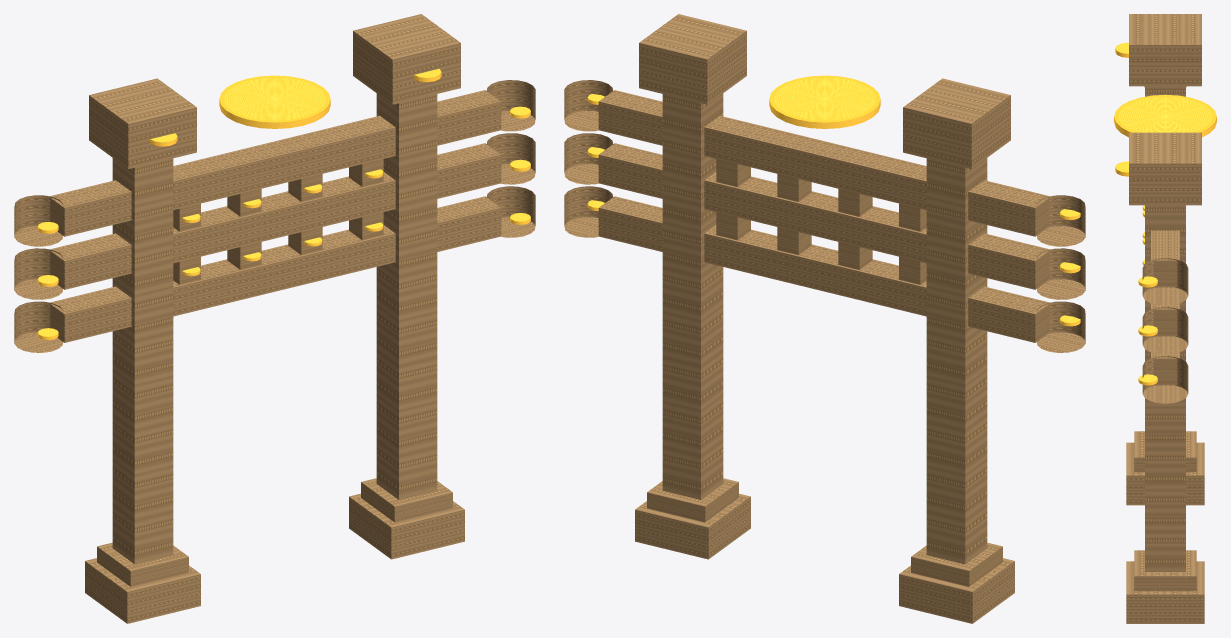
The model's file is temple_torana.glb.
3 views of the same model, side by side, from view 1: azimuth 30°, elevation 25°; view 2: azimuth 150°, elevation 25°; view 3: azimuth 270°, elevation 25° (orthographic). The views are drawn at different scales.
Visible parts, largest first — view 1: Node_TempleTorana; view 2: Node_TempleTorana; view 3: Node_TempleTorana.
Boxes of the visible parts, x1,y1,x2,y2 form: Node_TempleTorana: (14,14,535,623); Node_TempleTorana: (564,14,1085,623); Node_TempleTorana: (1114,14,1216,623).
Size of the model in its own units: 10.14 by 9.38 by 1.9.
2 materials, 2 textured.
